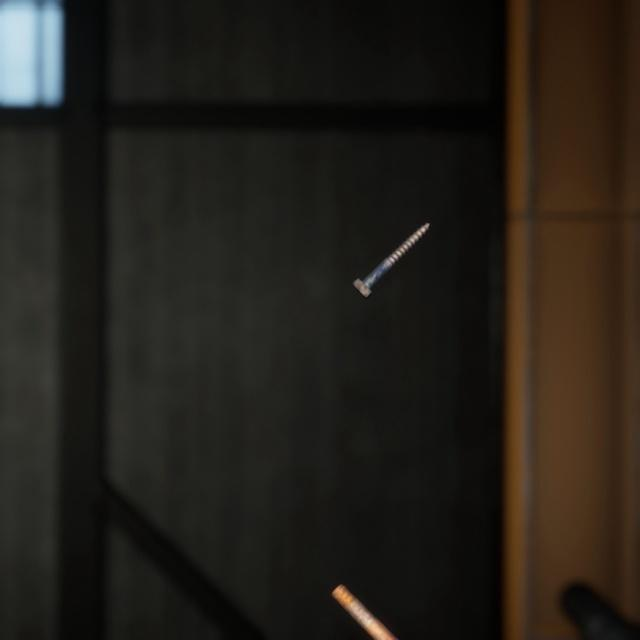bolt: (327, 557, 425, 640), (347, 203, 435, 287)
